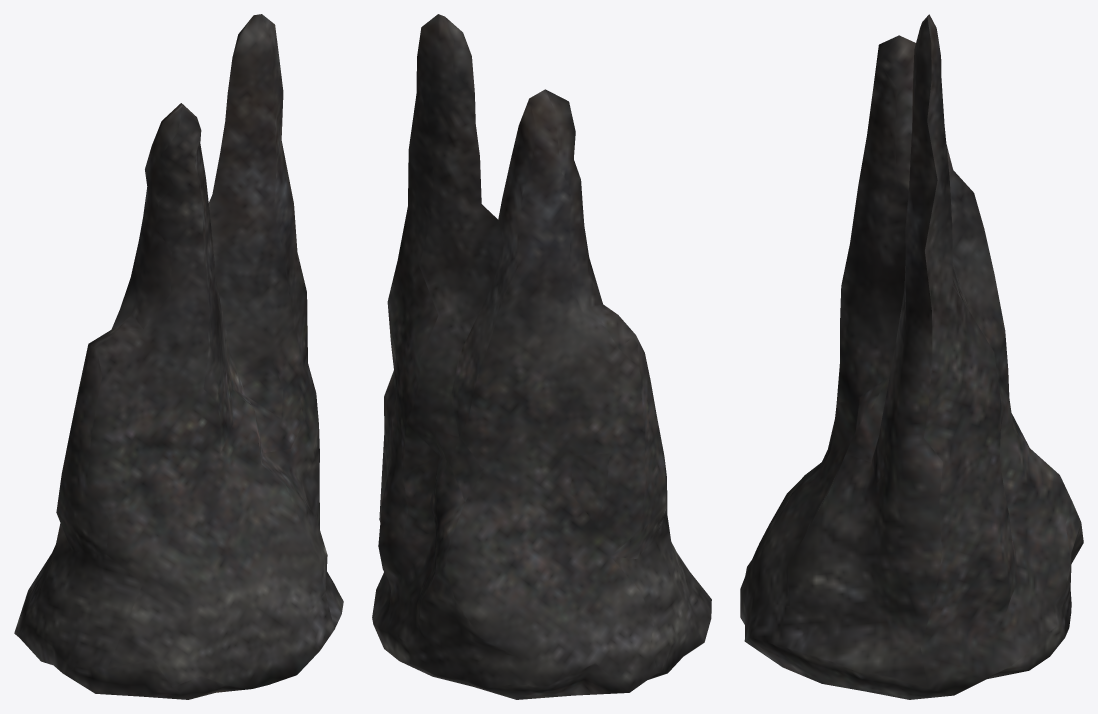
The model's file is CaveRockPack1_Low4.fbx.
3 renders of one model, left to right at view 1: azimuth 30°, elevation 25°; view 2: azimuth 150°, elevation 25°; view 3: azimuth 270°, elevation 25°, orthographic. The views are drawn at different scales.
Parts seen in each view (by area): view 1: CaveRockPack1_Low4; view 2: CaveRockPack1_Low4; view 3: CaveRockPack1_Low4.
Part boxes in pixels (box(x1,y1,x2,y2)): CaveRockPack1_Low4: box(14, 14, 343, 699); CaveRockPack1_Low4: box(372, 14, 711, 699); CaveRockPack1_Low4: box(740, 14, 1083, 699).
Bounding box in the file's own units: 1076 × 2155 × 1009.
